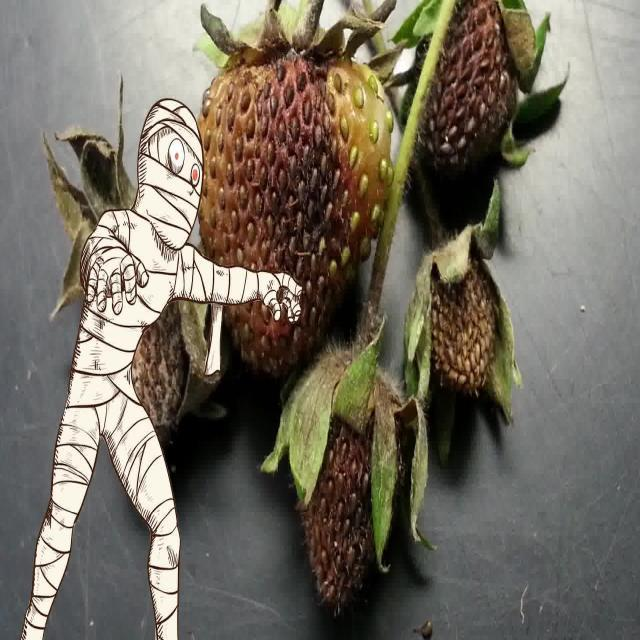Podredumbre de cuero: (196, 34, 411, 368), (289, 358, 428, 596), (86, 200, 202, 424), (408, 0, 543, 169), (420, 236, 512, 417)
